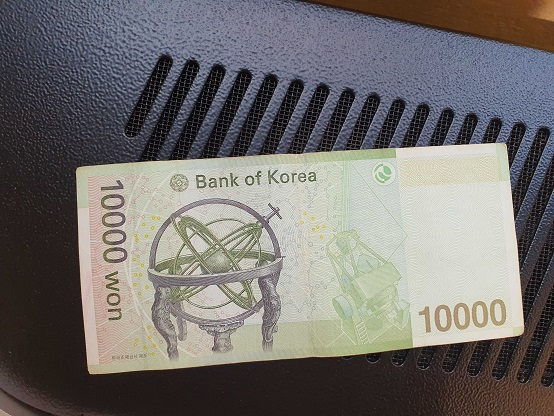10000won: (70, 142, 528, 376)
